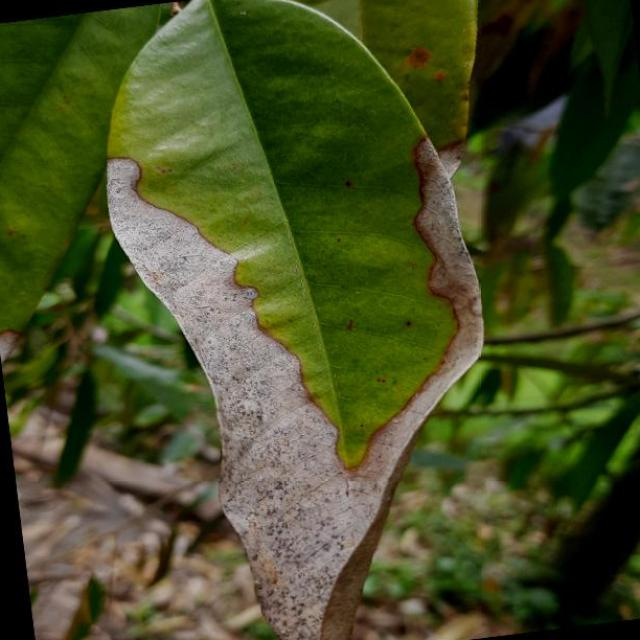Leaf Blight: (76, 0, 570, 640)
